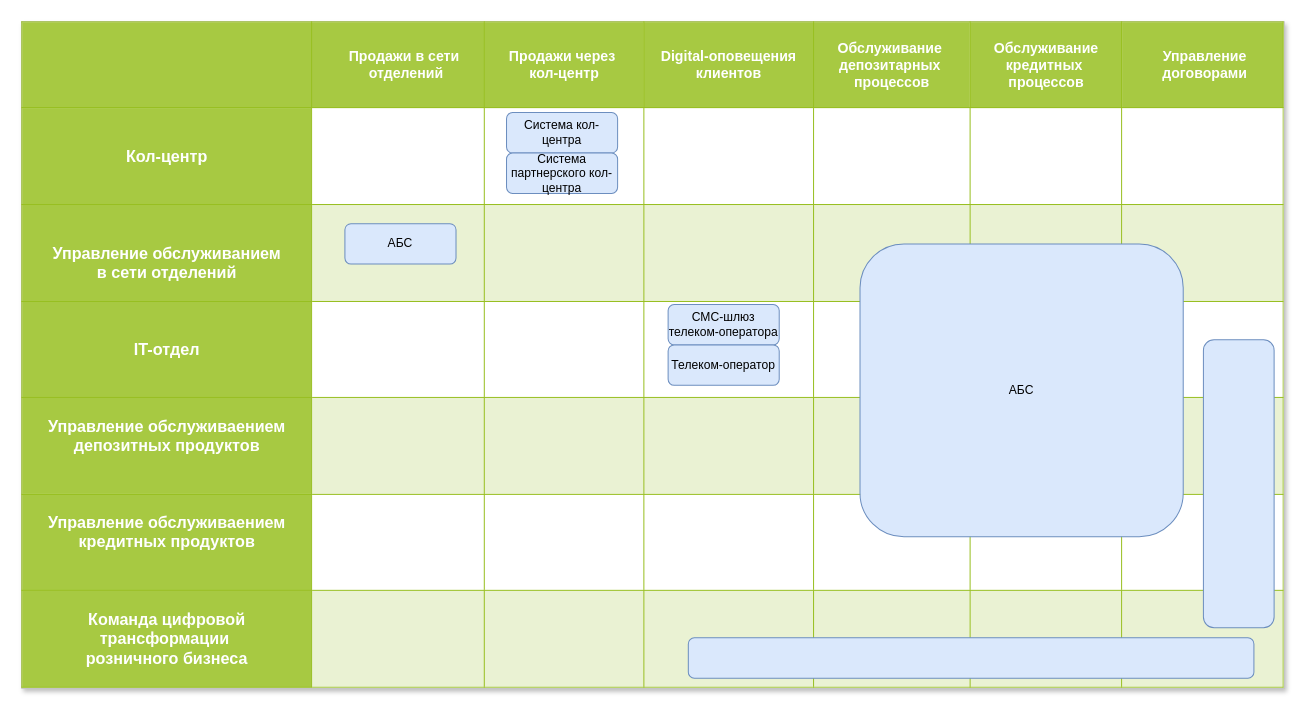
The diagram is 1308 pixels wide and 713 high, and some of its shapes have lost their labels. The centre of each missing label's shape, as x and y in pixels:
Интернет-банк: point (1238, 483)
Сайт: point (970, 657)
